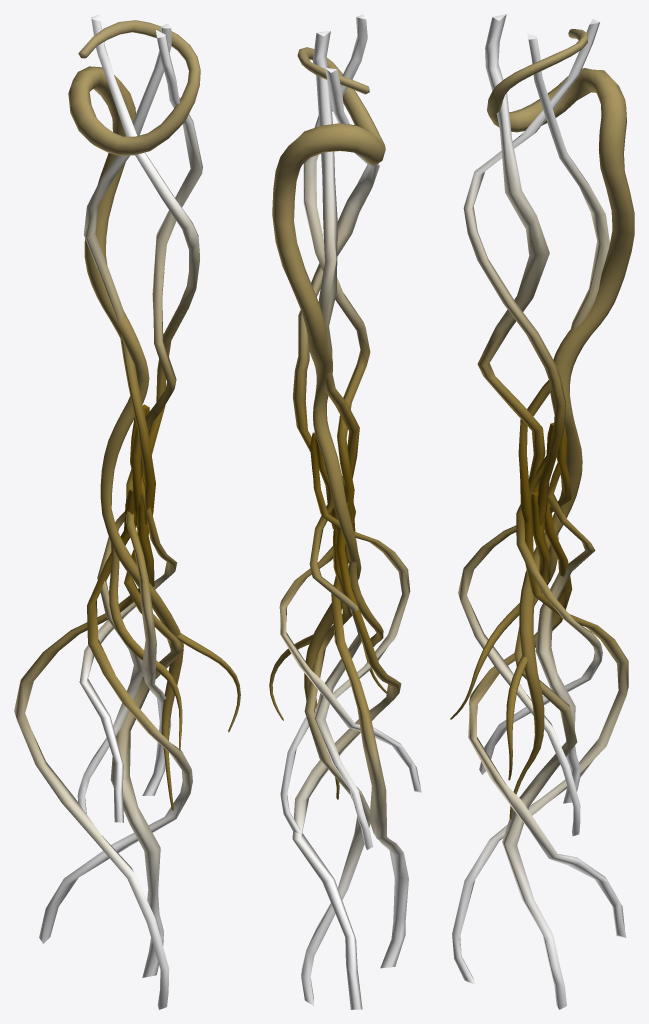
File: EnemyB.fbx
The picture shows the model from 3 angles, left to right: view 1: azimuth 30°, elevation 25°; view 2: azimuth 150°, elevation 25°; view 3: azimuth 270°, elevation 25°; orthographic projection.
Parts seen in each view (by area): view 1: enemyBMesh; view 2: enemyBMesh; view 3: enemyBMesh.
Boxes of the visible parts, x1=… form: enemyBMesh: x1=14, y1=14, x2=240, y2=1009; enemyBMesh: x1=269, y1=14, x2=421, y2=1009; enemyBMesh: x1=450, y1=14, x2=634, y2=1009.
Size of the model in its own units: 5.15 by 28.17 by 4.78.
